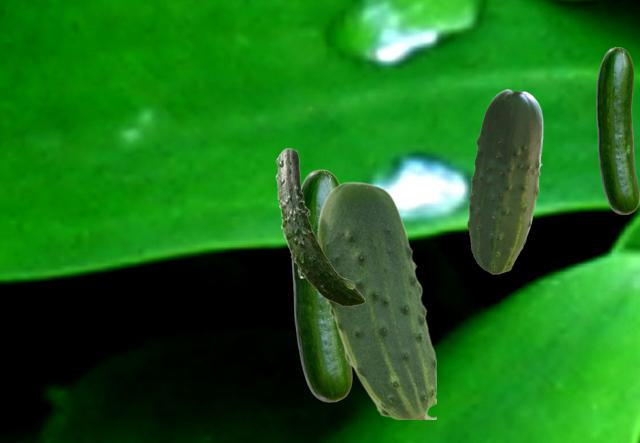cucumber: (317, 181, 435, 418), (275, 148, 364, 305), (291, 169, 351, 401), (467, 89, 542, 273), (596, 47, 638, 213)
